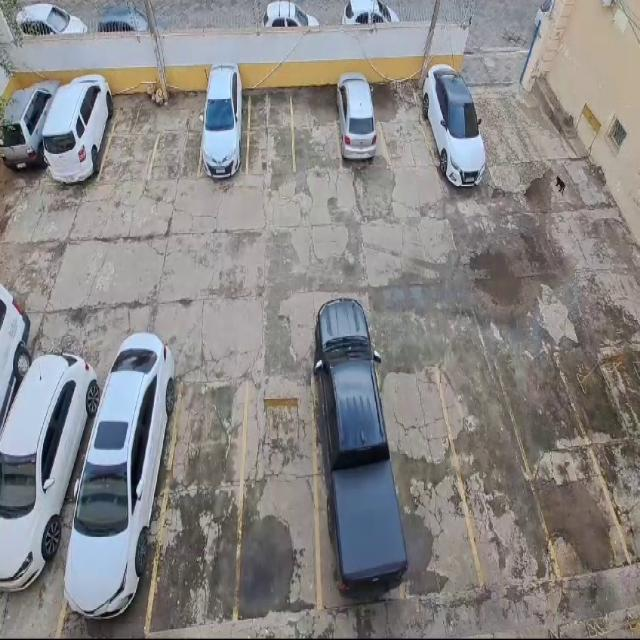empty: (493, 340, 630, 574), (439, 348, 558, 586), (383, 345, 484, 592), (149, 383, 250, 629), (234, 375, 317, 613), (99, 96, 167, 183), (375, 78, 436, 173), (147, 91, 208, 177), (289, 87, 345, 177), (248, 90, 295, 174)
notEmpty: (61, 372, 181, 635), (0, 351, 106, 635), (315, 351, 405, 601), (414, 71, 491, 187), (38, 76, 118, 185), (0, 68, 60, 186), (330, 79, 389, 167), (198, 83, 250, 171)
